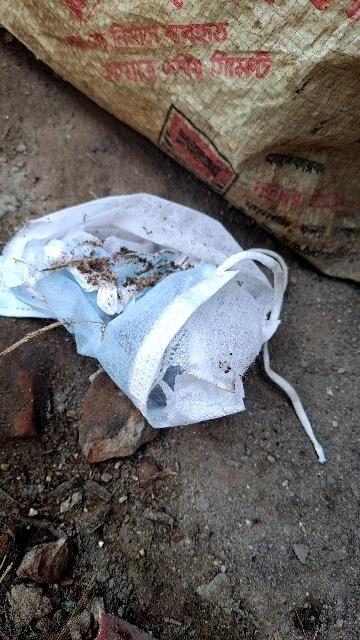mask: (2, 155, 300, 441)
